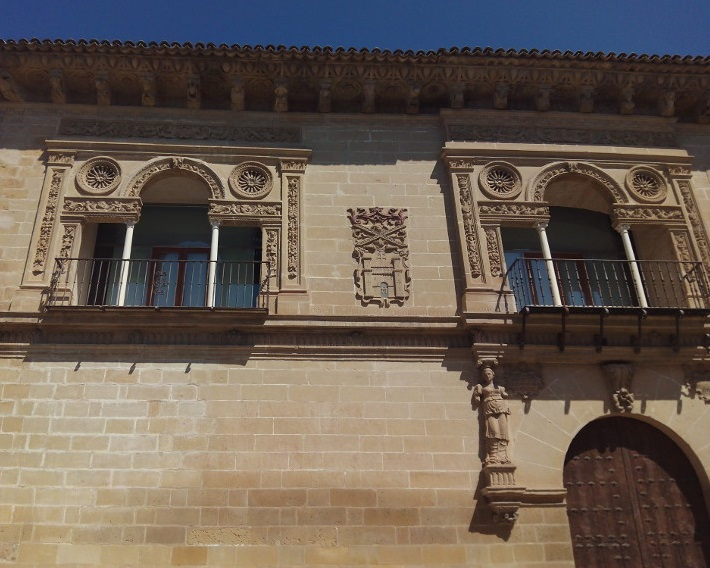arco-medio-punto: (560, 402, 710, 511)
serliana: (57, 147, 274, 312), (475, 154, 703, 311)
